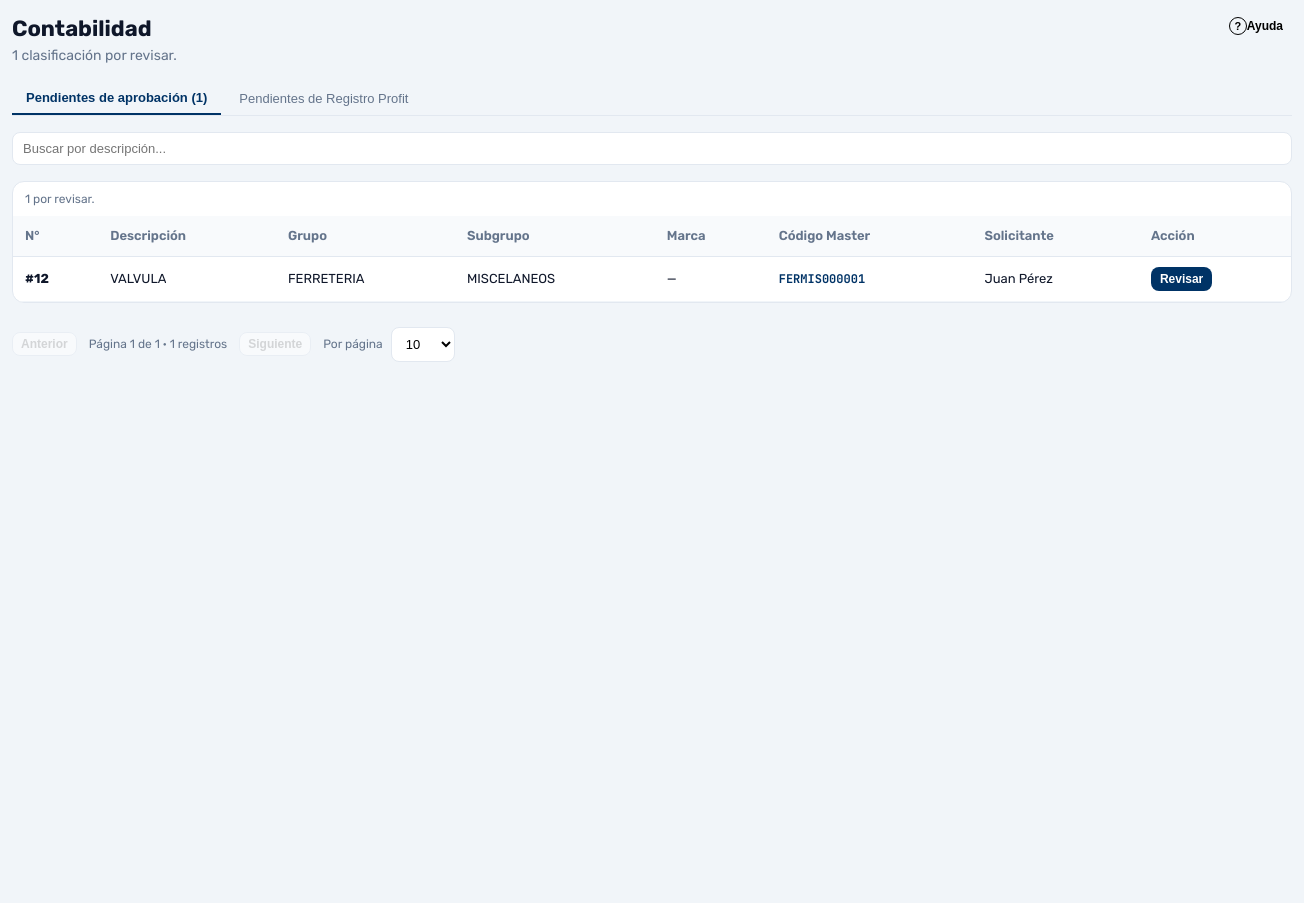
Test: ContabilidadList 12C — estándar de grupo › autocarga posiciones del estándar y habilita aprobar
Click the button "Revisar" at point(1182, 278), box [1151,266,1212,290]
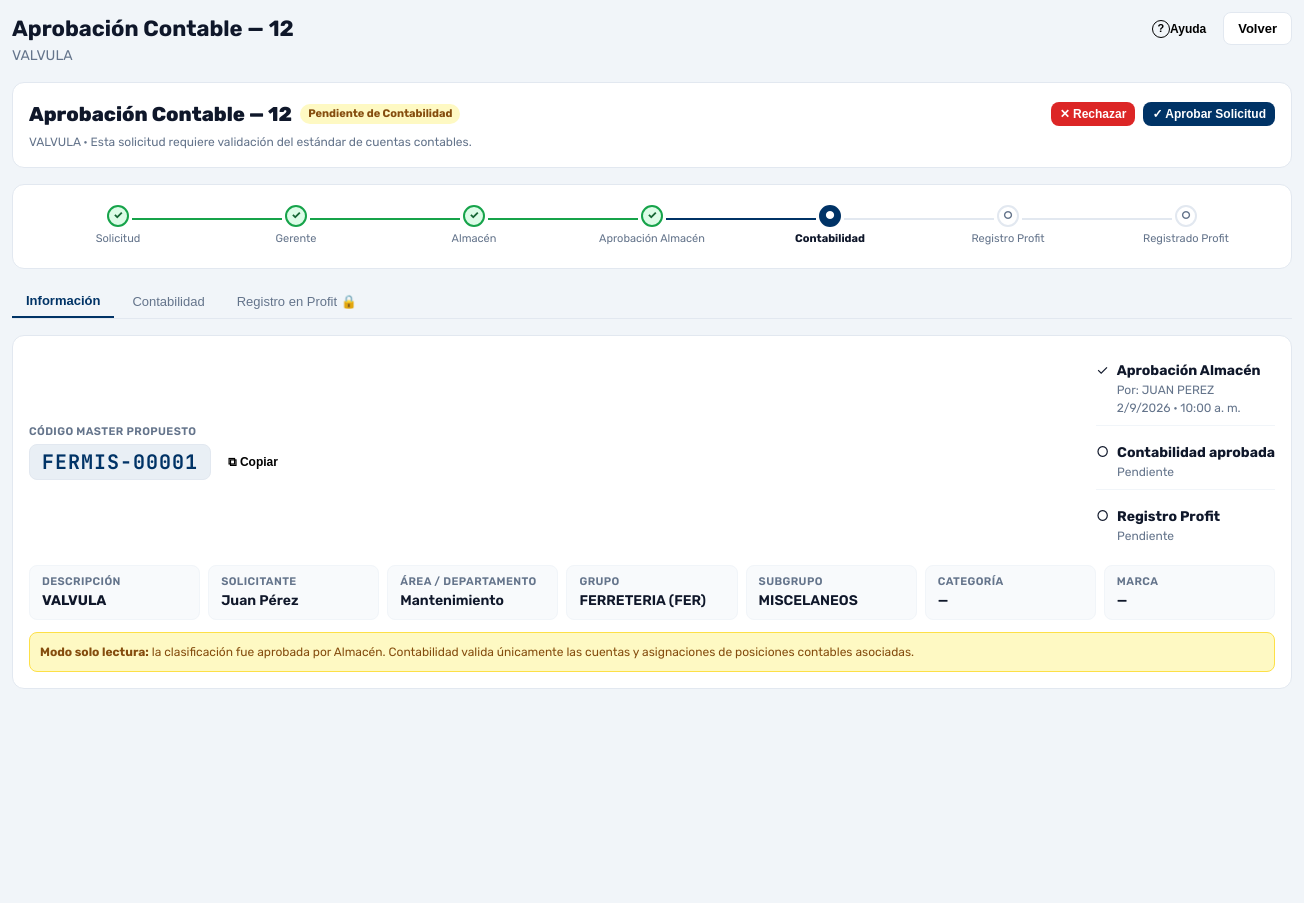
Click the tab "Contabilidad" at point(169, 301), box [118,284,219,318]
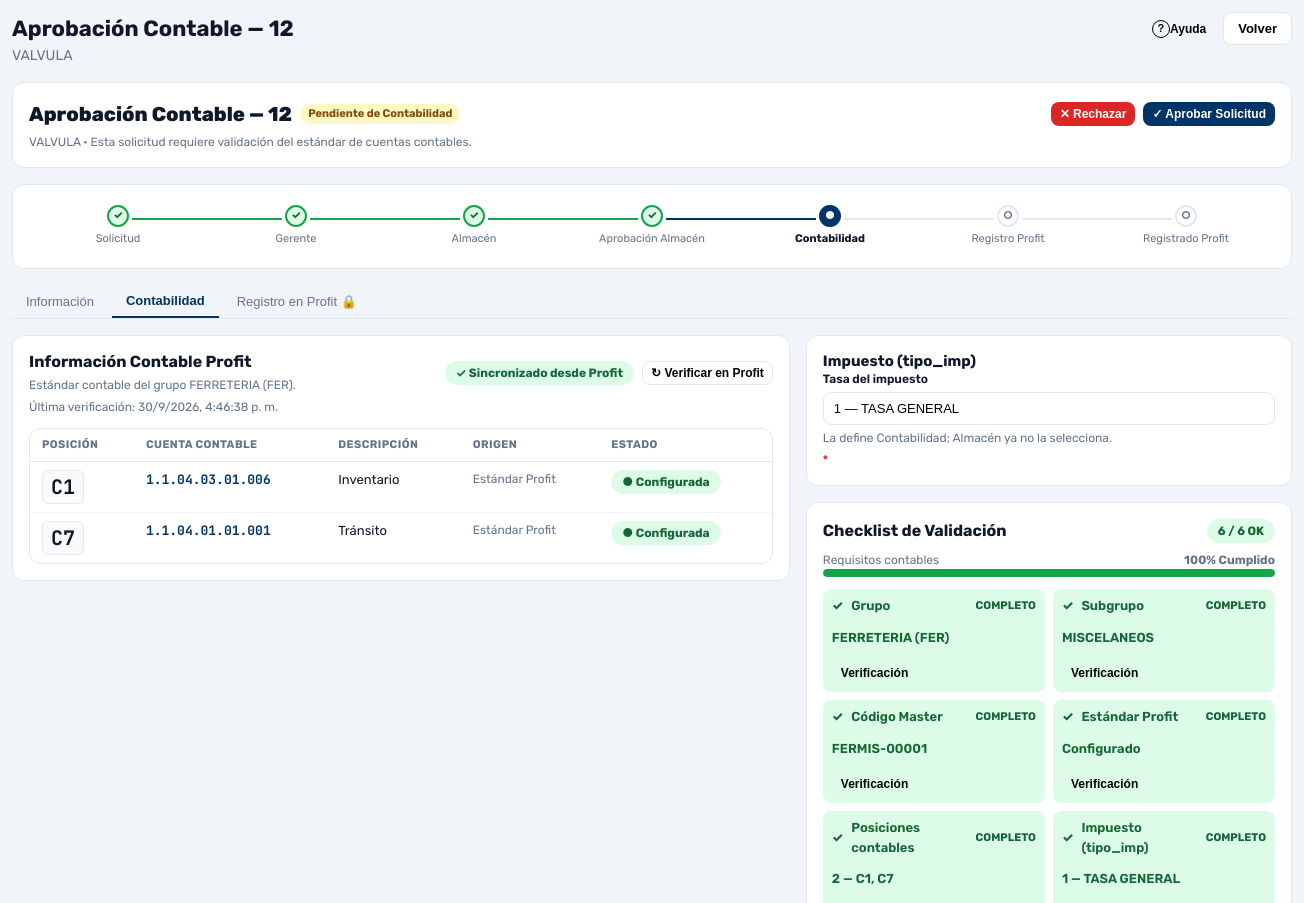
expect the text "✓ Sincronizado desde Profit" is shown: met, box [445,360,634,384]
expect the column heading "Posición" is shown: met, box [30,428,134,462]
expect the column heading "Cuenta contable" is shown: met, box [134,428,326,462]
